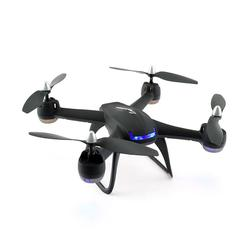drone: (21, 65, 230, 196)
